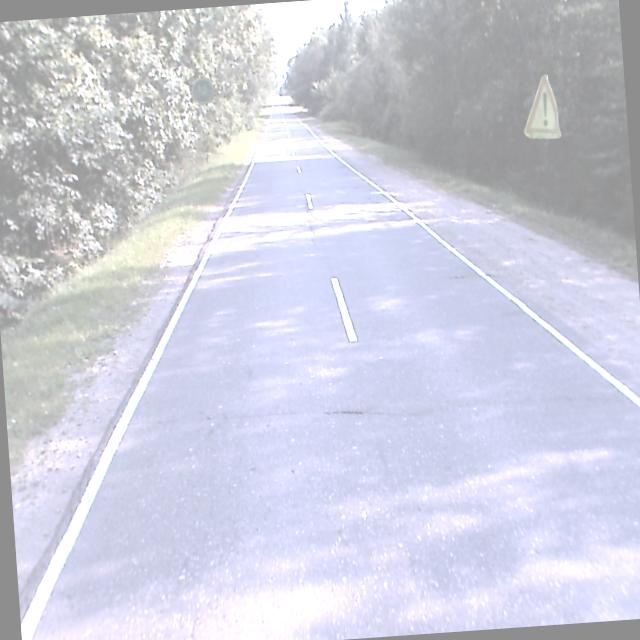road: (19, 94, 640, 640)
